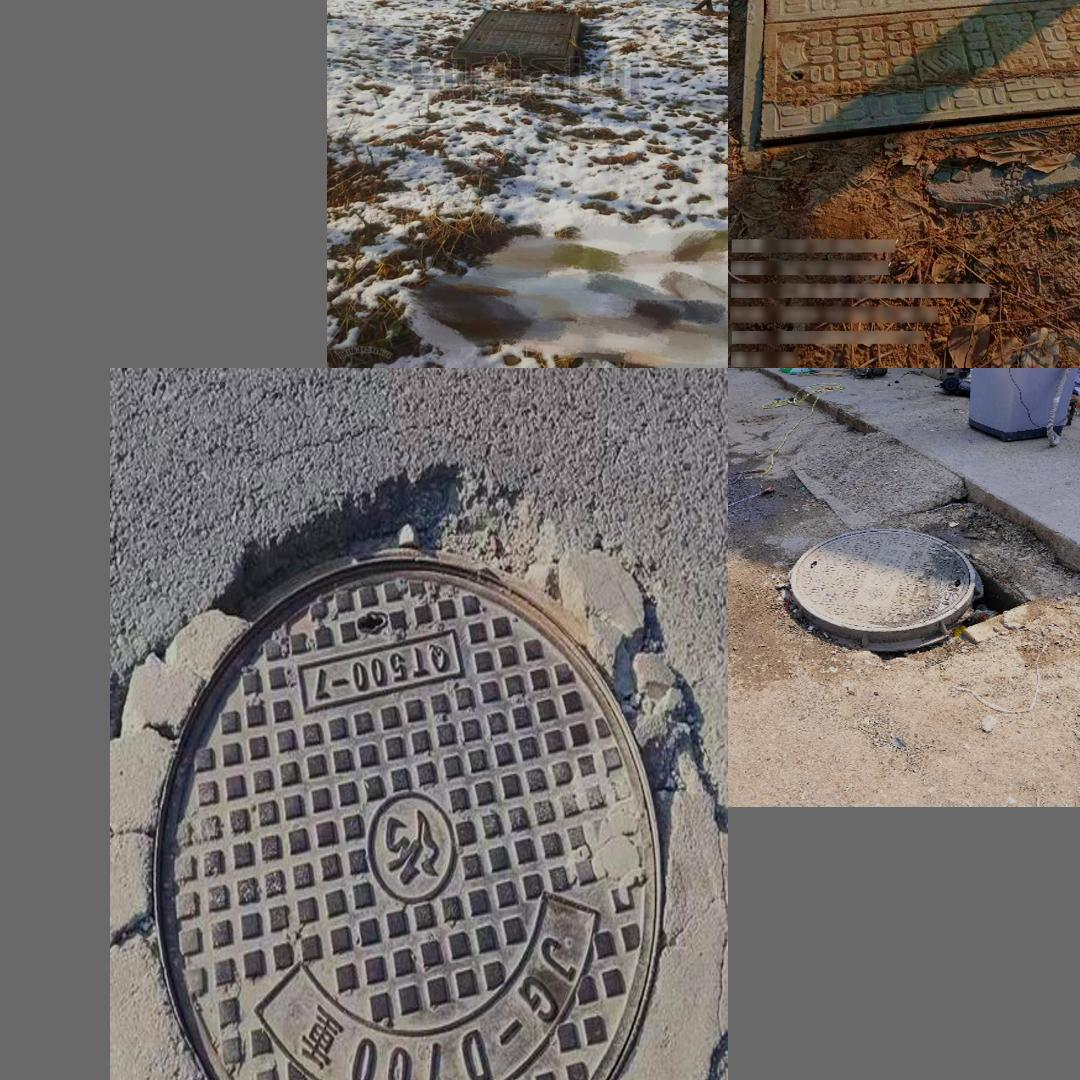circle: (128, 489, 706, 1080), (733, 0, 1080, 159), (779, 520, 1011, 656), (442, 9, 586, 79)
